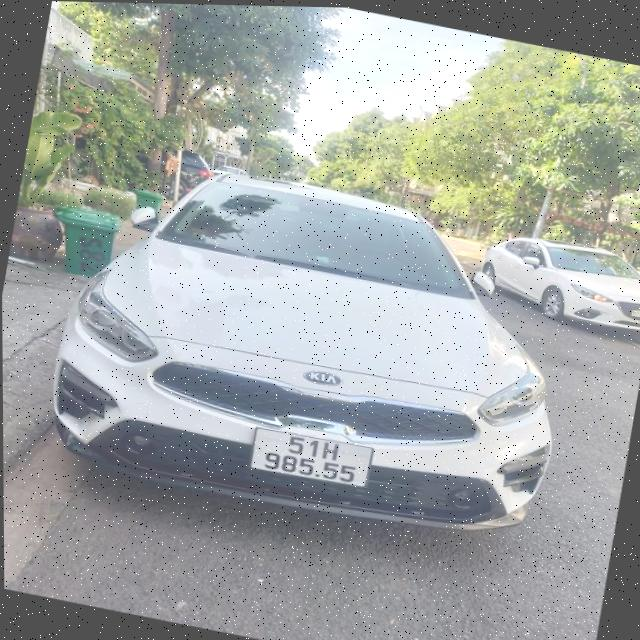car: (48, 135, 579, 564), (466, 221, 640, 342)
plate: (237, 411, 381, 497), (623, 297, 640, 327)
